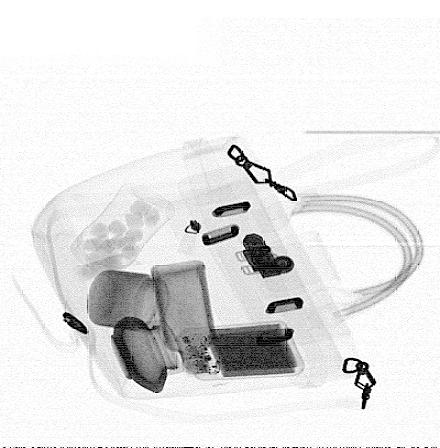Powerbank: (175, 320, 305, 381)
